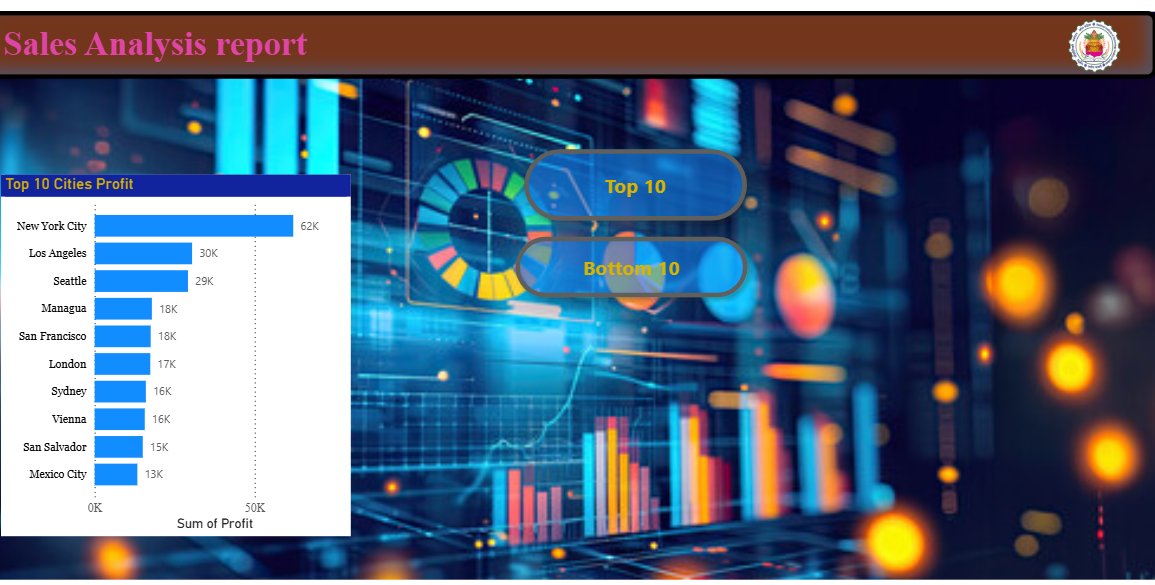

The dashboard page shown, as its layout file describes it:
{"tool":"powerbi","page":{"name":"Filters & Bookmarks","canvas":[1280,720],"ordinal":4},"visuals":[{"type":"textbox","box":[0,43.9,1280.3,74.1],"z":0},{"type":"image","box":[1141.7,46.7,138.6,71.4],"z":1000},{"type":"clusteredBarChart","title":"Top 10 Cities Profit","fields":{"Y":["Sum(Orders.Profit)"],"Category":["Orders.City"]},"box":[11,223.7,384.2,396.6],"z":2000},{"type":"actionButton","box":[576.8,186.8,262.5,96.4],"z":4000},{"type":"actionButton","box":[566.5,283.2,272.8,84.5],"z":5000}]}

Visuals, with their boxes on the page's 1280x720 design canvas (x1, y1, x2, y2). These are canvas units, not pixel positions in the 1155x585 screenshot, which may show the page scaled, cropped or inside an application window:
textbox: box=[0, 44, 1280, 118]
image: box=[1142, 47, 1280, 118]
"Top 10 Cities Profit" clusteredBarChart: box=[11, 224, 395, 620]
actionButton: box=[577, 187, 839, 283]
actionButton: box=[566, 283, 839, 368]
